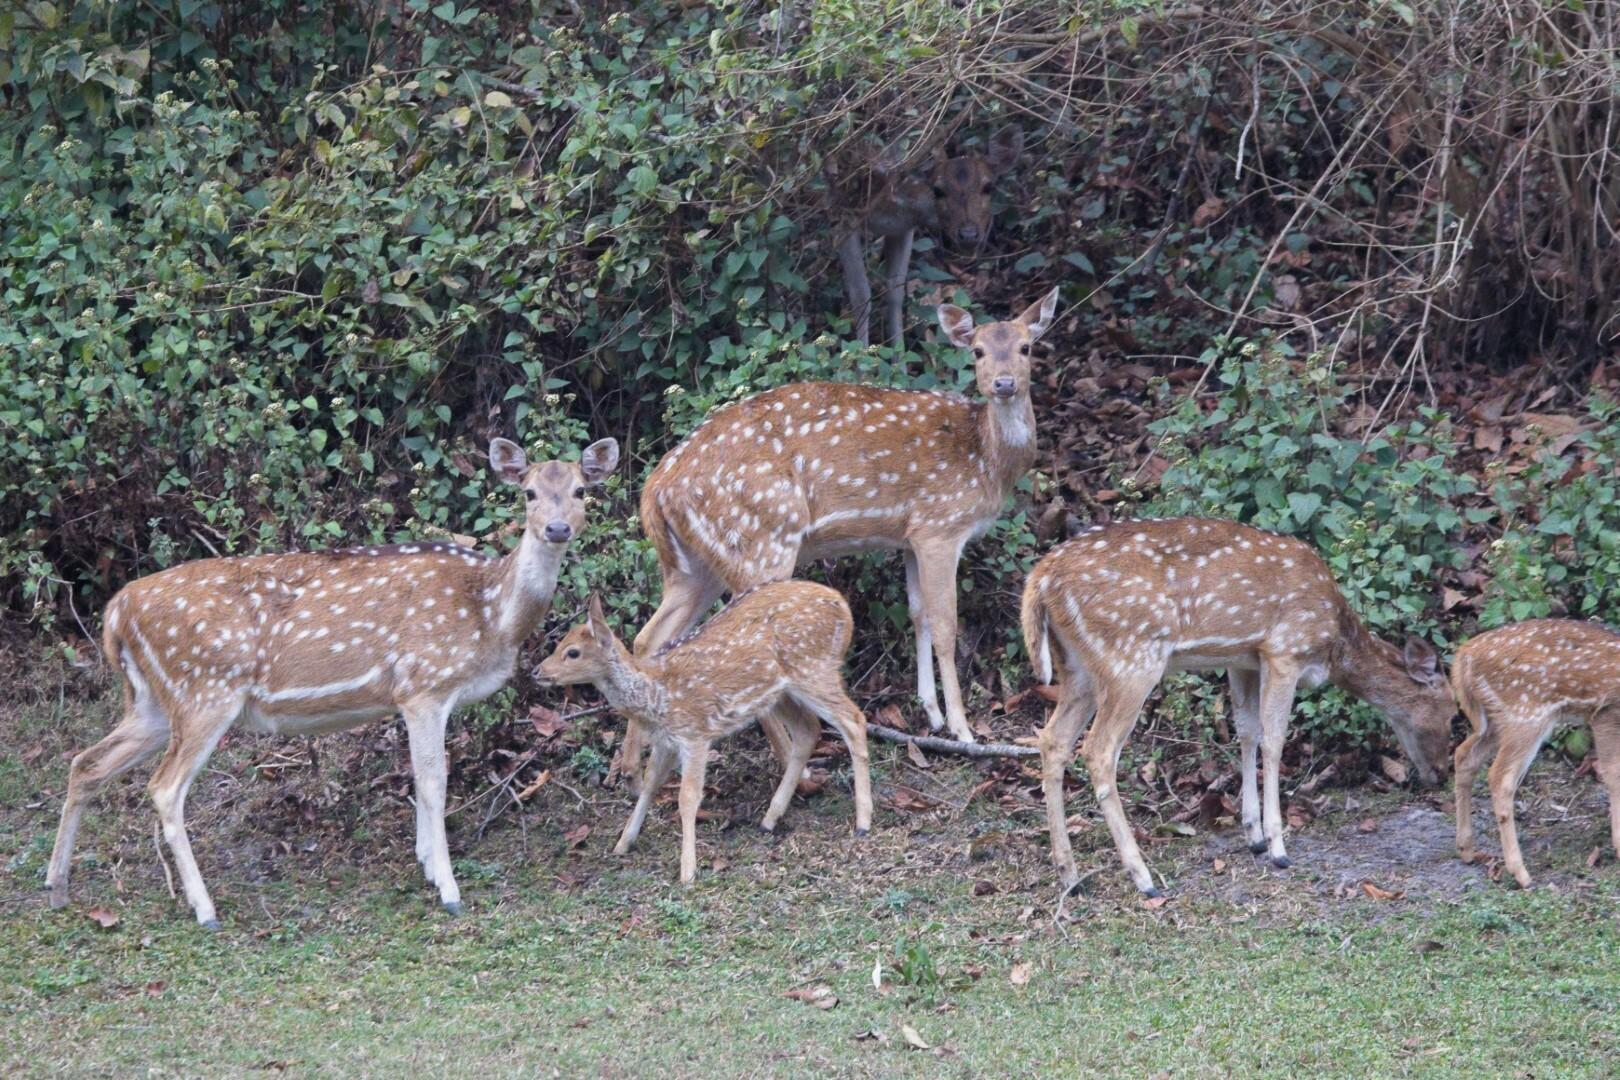Deer: (46, 438, 618, 925), (639, 289, 1060, 741), (1021, 518, 1454, 897), (539, 579, 873, 884), (1450, 620, 1619, 887)
